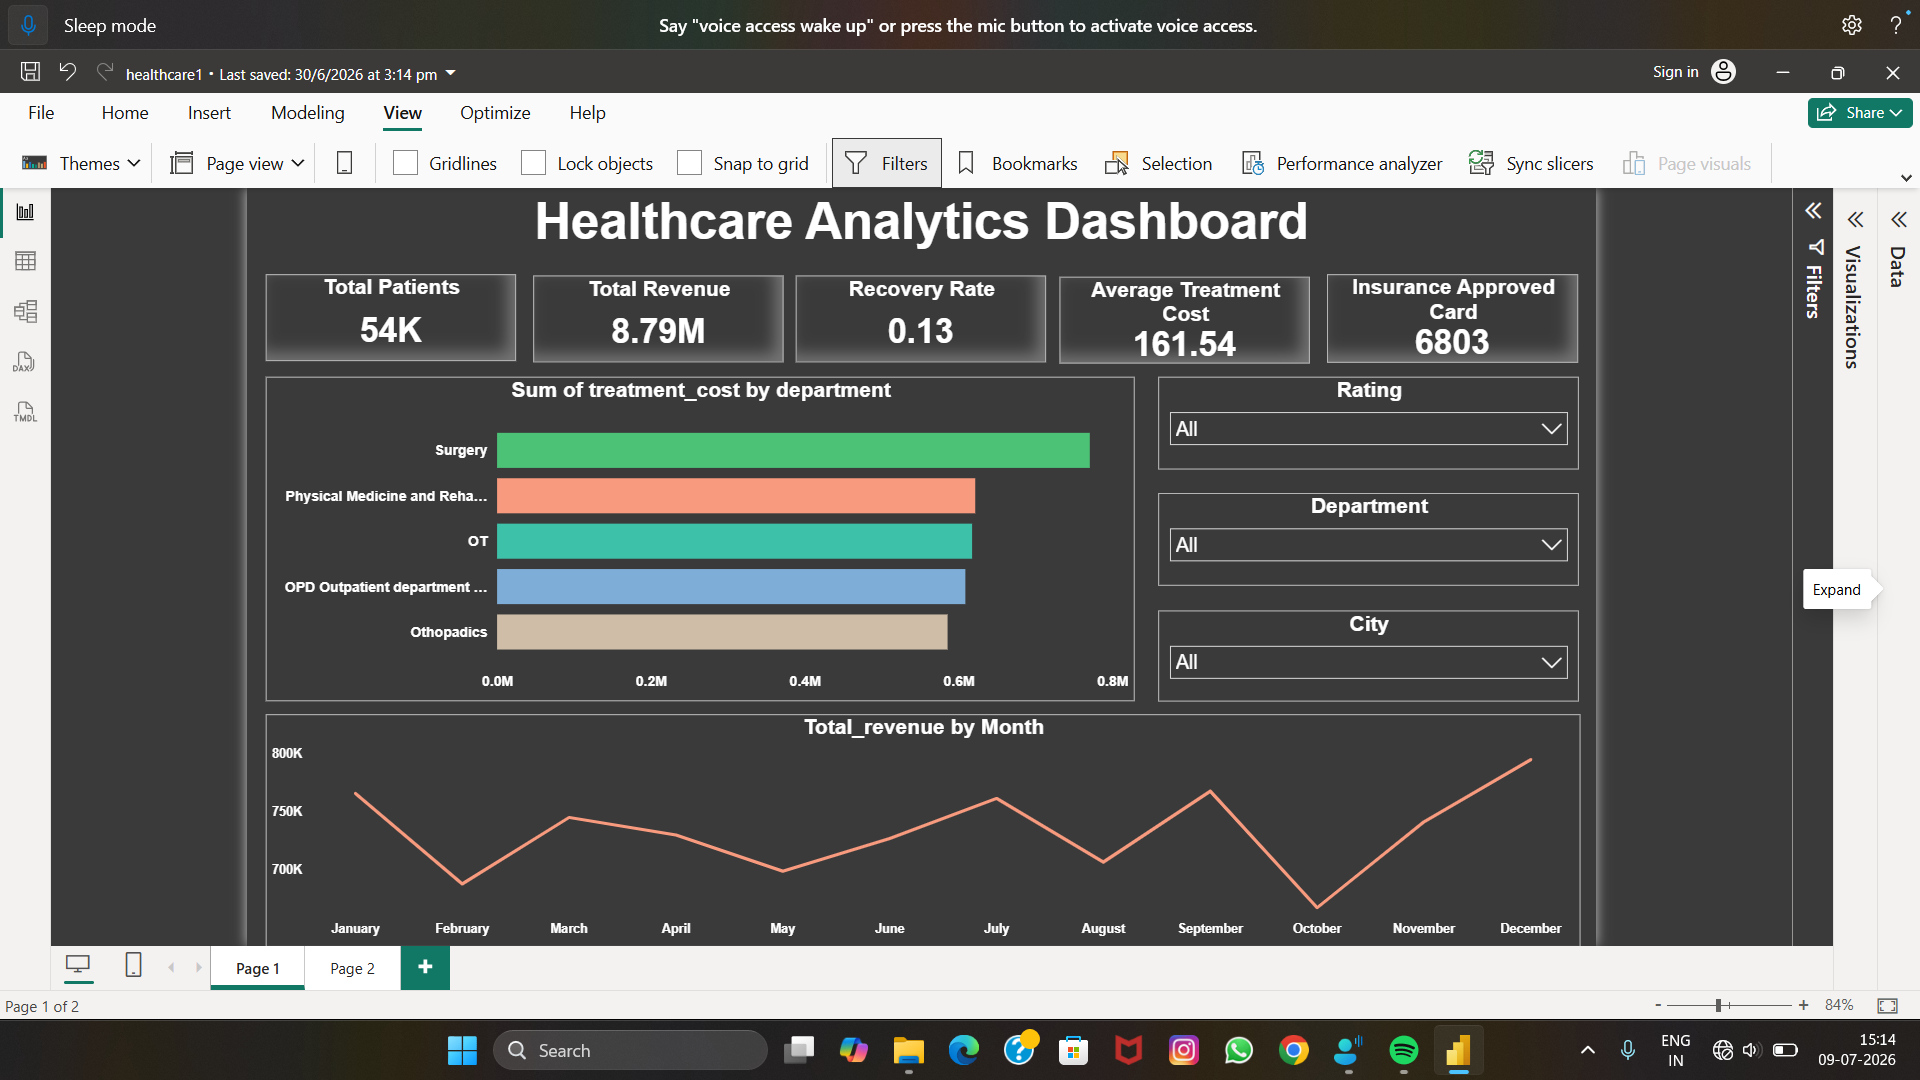

What the dashboard file says about the page in this screenshot:
{"tool":"powerbi","page":{"name":"Page 1","canvas":[1280,720],"ordinal":0},"visuals":[{"type":"card","title":"Total Patients","fields":{"Values":["public hospital_management.Total_patients"]},"box":[18.1,81.5,237.9,82.8],"z":0},{"type":"card","title":"Total Revenue","fields":{"Values":["public hospital_management.Total_revenue"]},"box":[271.6,82.8,237.9,82.8],"z":1000},{"type":"card","title":"Average Treatment Cost","fields":{"Values":["public hospital_management.Avg_treatment_cost"]},"box":[770.7,84.1,237.9,82.8],"z":2000},{"type":"card","title":"Recovery Rate","fields":{"Values":["public hospital_management.Recovery_rate"]},"box":[521.1,82.8,237.9,82.8],"z":3000},{"type":"card","title":"Insurance Approved Card","fields":{"Values":["public hospital_management.Recovered_patient"]},"box":[1025,82.3,238.8,83.7],"z":4000},{"type":"barChart","fields":{"Category":["public hospital_management.department"],"Y":["Sum(public hospital_management.treatment_cost)"]},"box":[18.1,179.7,825,307.8],"z":5000},{"type":"slicer","title":"Department","fields":{"Values":["public hospital_management.department"]},"box":[864.5,289.5,399.3,87.8],"z":6000},{"type":"slicer","title":"Rating","fields":{"Values":["public hospital_management.rating"]},"box":[864.5,179.8,399.3,87.8],"z":7000},{"type":"lineChart","fields":{"Category":["public hospital_management.admission_date.Variation.Date Hierarchy.Month"],"Y":["public hospital_management.Total_revenue"]},"box":[18.1,499.1,1247.9,221.1],"z":8000},{"type":"slicer","title":"City","fields":{"Values":["public hospital_management.city"]},"box":[864.5,400.7,399.3,86.4],"z":9000},{"type":"textbox","box":[0,0,1280.5,70.8],"z":10000}]}

Visuals, with their boxes on the page's 1280x720 design canvas (x1, y1, x2, y2). These are canvas units, not pixel positions in the 1920x1080 screenshot, which may show the page scaled, cropped or inside an application window:
"Total Patients" card: bbox=[18, 82, 256, 164]
"Total Revenue" card: bbox=[272, 83, 510, 166]
"Average Treatment Cost" card: bbox=[771, 84, 1009, 167]
"Recovery Rate" card: bbox=[521, 83, 759, 166]
"Insurance Approved Card" card: bbox=[1025, 82, 1264, 166]
barChart - public hospital_management.department x Sum(public hospital_management.treatment_cost): bbox=[18, 180, 843, 488]
"Department" slicer: bbox=[864, 290, 1264, 377]
"Rating" slicer: bbox=[864, 180, 1264, 268]
lineChart - public hospital_management.admission_date.Variation.Date Hierarchy.Month x public hospital_management.Total_revenue: bbox=[18, 499, 1266, 720]
"City" slicer: bbox=[864, 401, 1264, 487]
textbox: bbox=[0, 0, 1280, 71]
